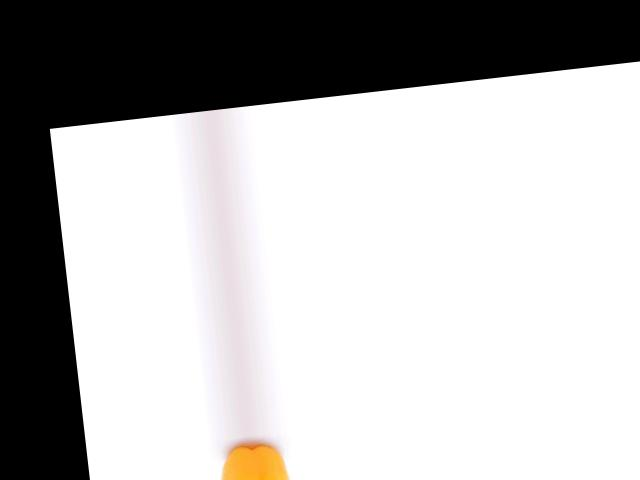bell_pepper: (210, 439, 299, 480)
